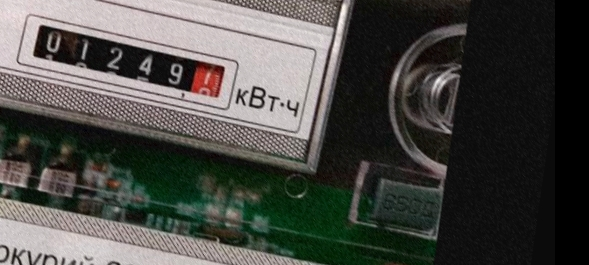0: (44, 27, 64, 55)
1: (75, 34, 92, 62)
2: (104, 45, 124, 73)
4: (136, 50, 156, 77)
7: (199, 60, 218, 88)
9: (164, 59, 185, 87)
screen: (12, 11, 244, 115)
